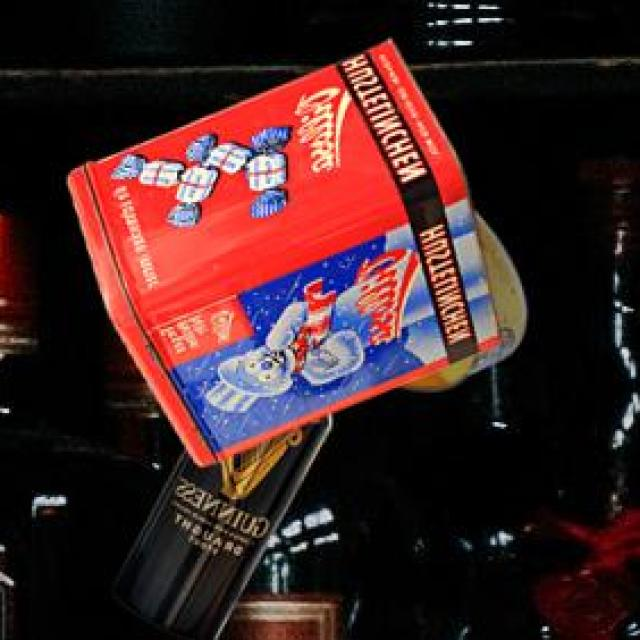logam: (71, 35, 505, 462), (117, 410, 335, 640), (403, 208, 530, 387)
